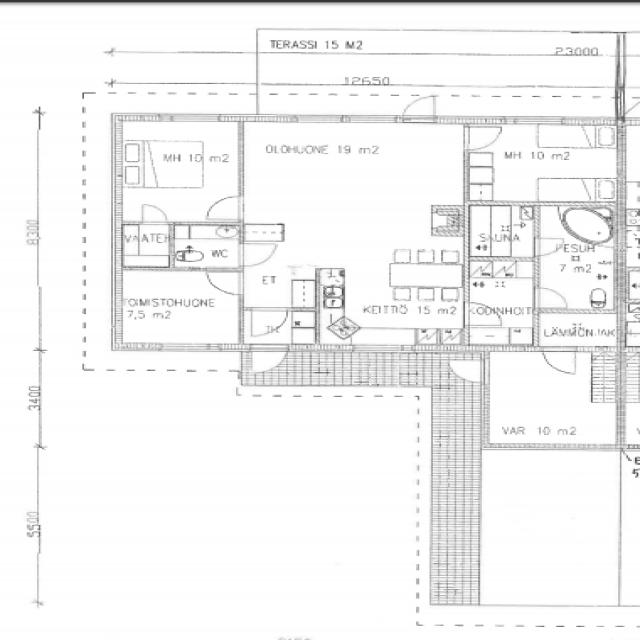door: (463, 276, 533, 339), (185, 226, 243, 280), (244, 305, 292, 340), (202, 192, 246, 223), (245, 344, 290, 374), (398, 93, 440, 125), (462, 124, 505, 154), (236, 240, 280, 268), (462, 300, 504, 329), (202, 268, 245, 296), (446, 357, 488, 385), (541, 347, 579, 376), (533, 284, 572, 310), (137, 200, 171, 226), (533, 238, 563, 257)
window: (280, 114, 401, 125), (157, 341, 224, 356), (505, 114, 563, 127), (106, 292, 122, 336), (169, 112, 225, 124)
zone: (240, 121, 470, 241), (316, 248, 466, 342), (484, 350, 623, 450), (114, 118, 241, 222), (464, 123, 622, 203), (117, 266, 240, 350), (535, 250, 620, 311), (464, 202, 538, 264), (460, 277, 528, 342), (533, 309, 621, 352), (168, 224, 241, 272), (119, 222, 171, 271)
